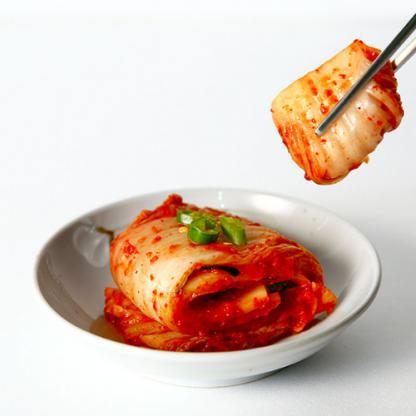kimchi: (104, 173, 370, 391), (276, 52, 411, 177)
